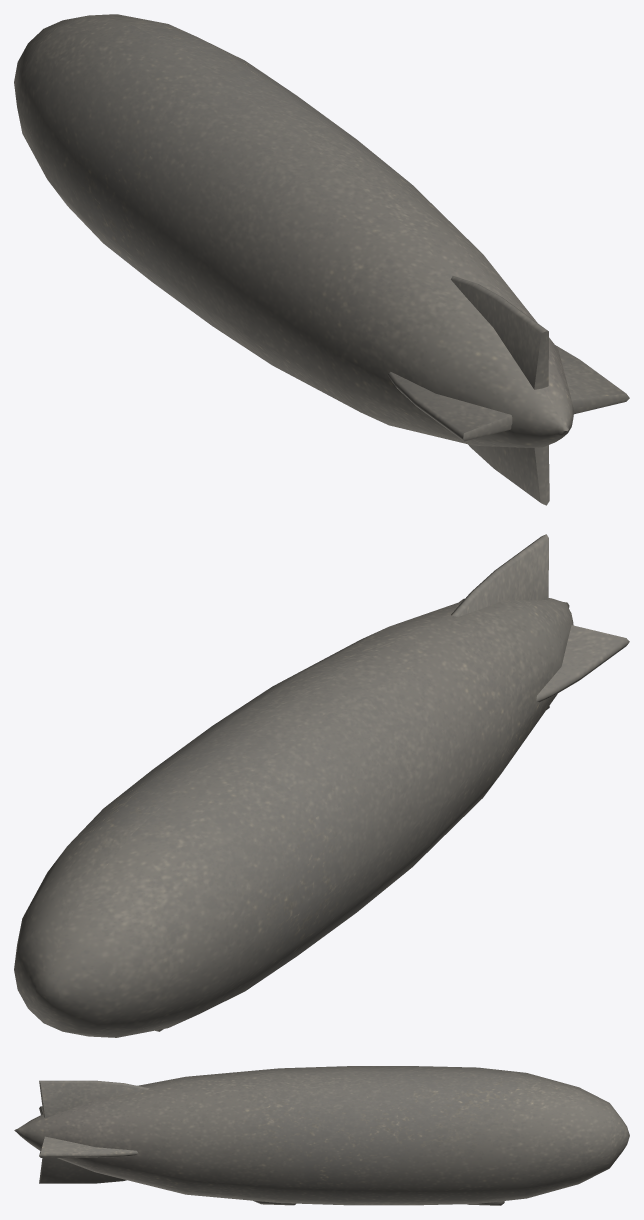
File: zeppelin.fbx
The picture shows the model from 3 angles, top to bottom: view 1: azimuth 30°, elevation 25°; view 2: azimuth 150°, elevation 25°; view 3: azimuth 270°, elevation 25°; orthographic projection. The views are drawn at different scales.
Parts seen in each view (by area): view 1: 0_zeppelin; view 2: 0_zeppelin; view 3: 0_zeppelin.
Part boxes in pixels (x1,y1,x2,y2): 0_zeppelin: (14,14,629,505); 0_zeppelin: (14,534,629,1037); 0_zeppelin: (14,1066,629,1205).
Bounding box in the file's own units: 274 × 287 × 1213.
